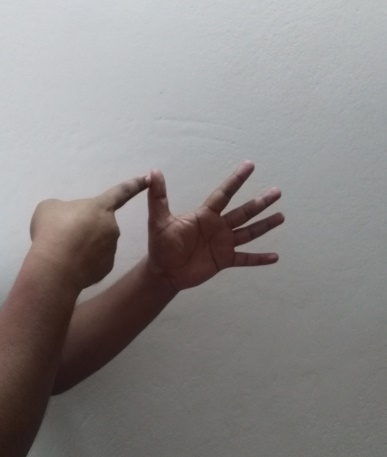a: (37, 159, 286, 293)
